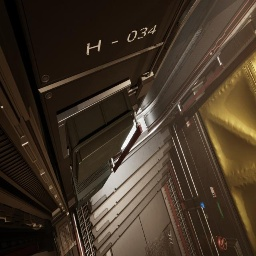NitrogenTank ,: (198, 235, 227, 251)
